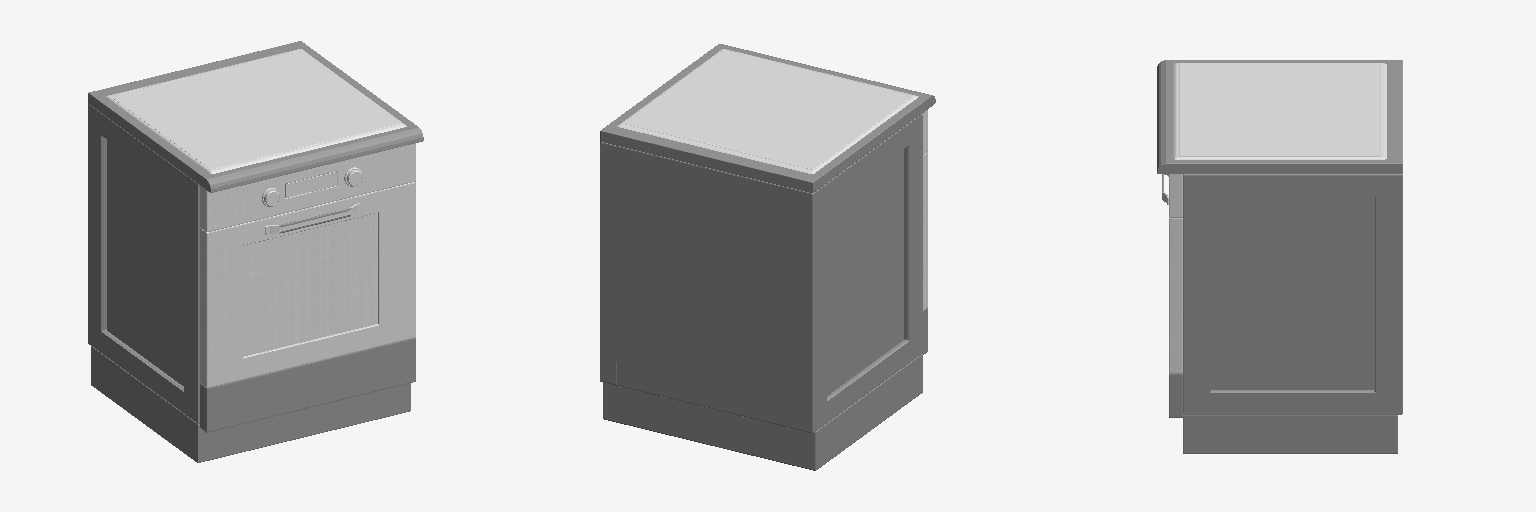
3 renders of one model, left to right at view 1: azimuth 30°, elevation 25°; view 2: azimuth 150°, elevation 25°; view 3: azimuth 270°, elevation 25°, orthographic.
Size of the model in its own units: 0.6004 by 0.787 by 0.6.
9 materials, 1 textured.